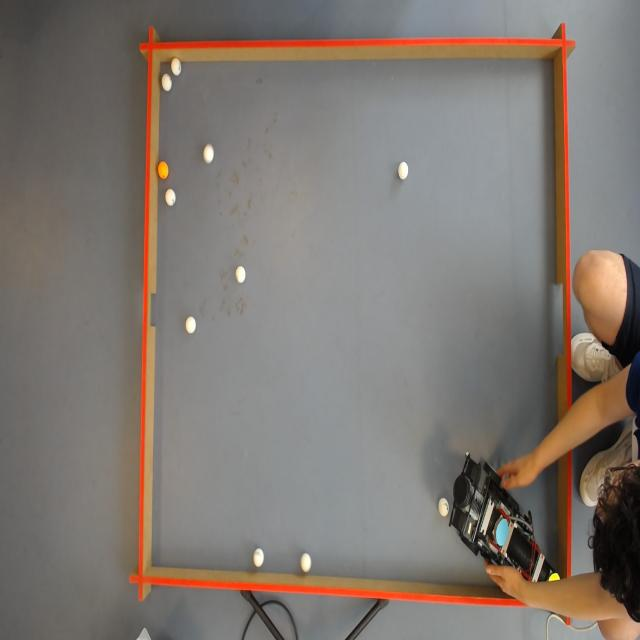orange: (158, 161, 170, 180)
robot: (450, 451, 560, 614)
robot-rear: (495, 515, 513, 549)
white: (300, 550, 313, 574), (438, 497, 450, 519), (253, 549, 266, 569), (398, 160, 410, 181), (202, 146, 215, 164), (160, 75, 172, 94), (164, 190, 176, 207), (186, 316, 198, 332), (170, 58, 182, 74), (236, 266, 247, 282)
